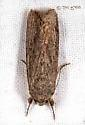army worm adult: (20, 8, 71, 120)
